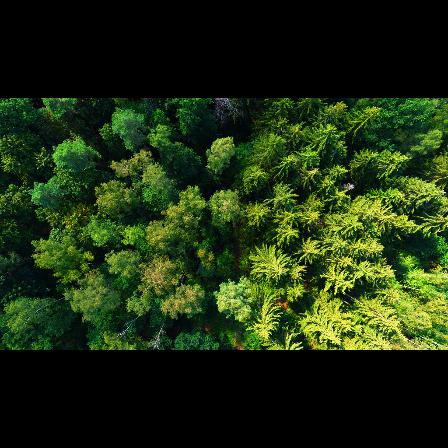Dead: (211, 98, 245, 128), (118, 312, 142, 339), (152, 321, 167, 350), (341, 182, 357, 193)
